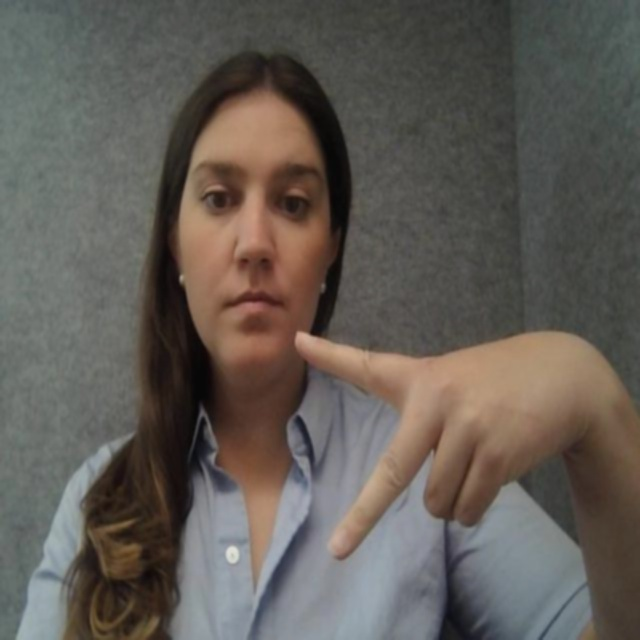Scissors: (280, 304, 582, 555)
